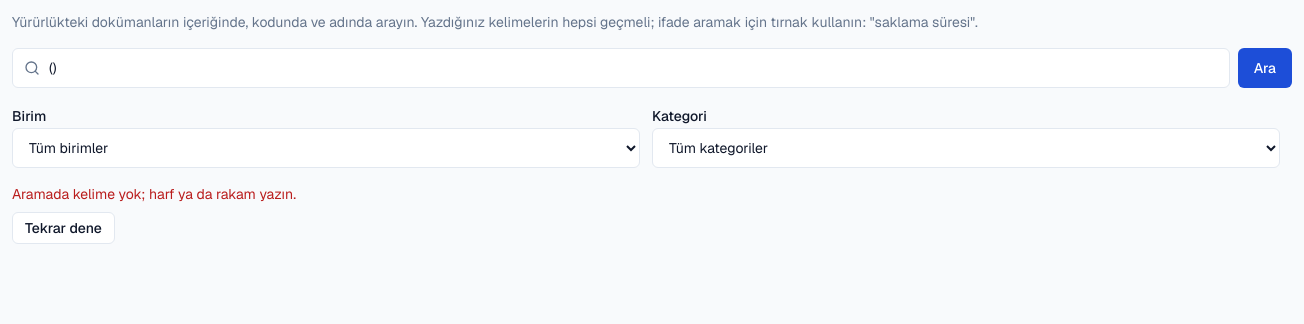
Test case: SearchResults › shows why a search failed in Turkish and lets the user retry
Expected: the message shows "Aramada kelime yok; harf ya da rakam yazın.", [12,185,296,203]
Click the button "Tekrar dene".
click(63, 228)  # box [12,212,115,244]
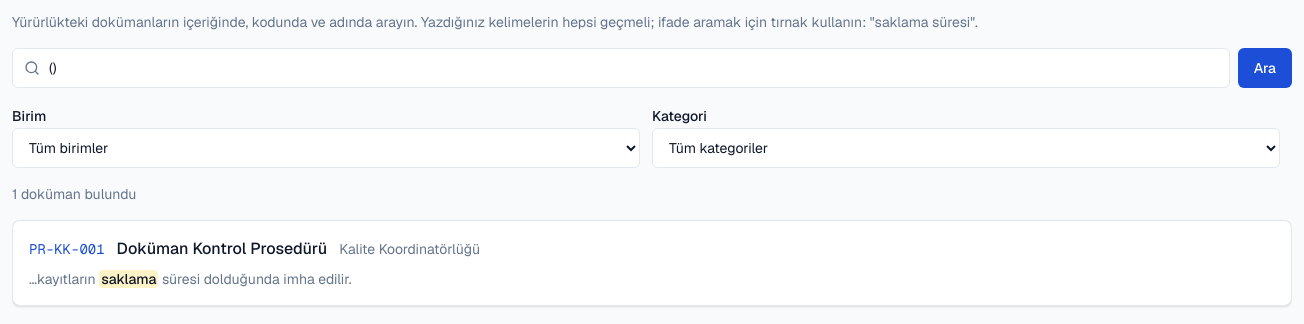
Expected: the list named "Arama sonuçları" is shown, [12,220,1292,306]
